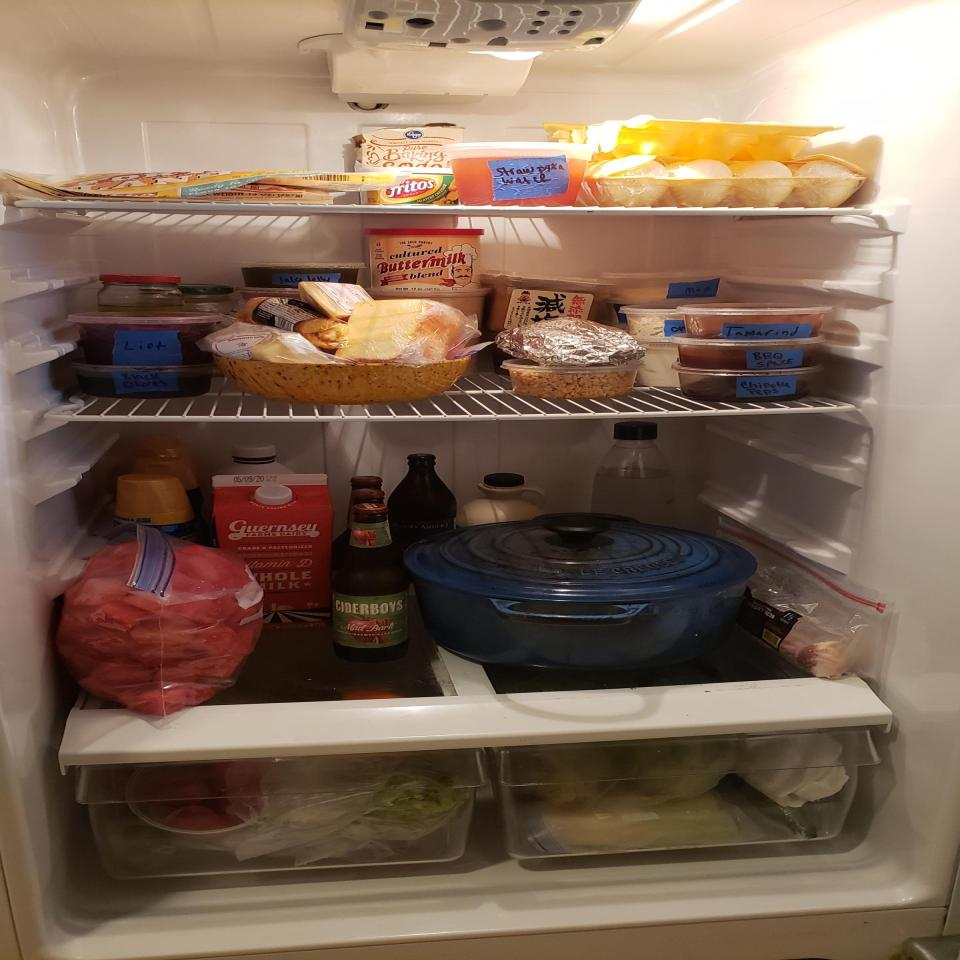Huevos: (583, 156, 865, 208)
Leche: (208, 473, 335, 633)
Lechuga/Endivia: (303, 751, 461, 843)
Queso: (335, 298, 468, 364), (201, 322, 331, 364), (297, 282, 374, 320)
